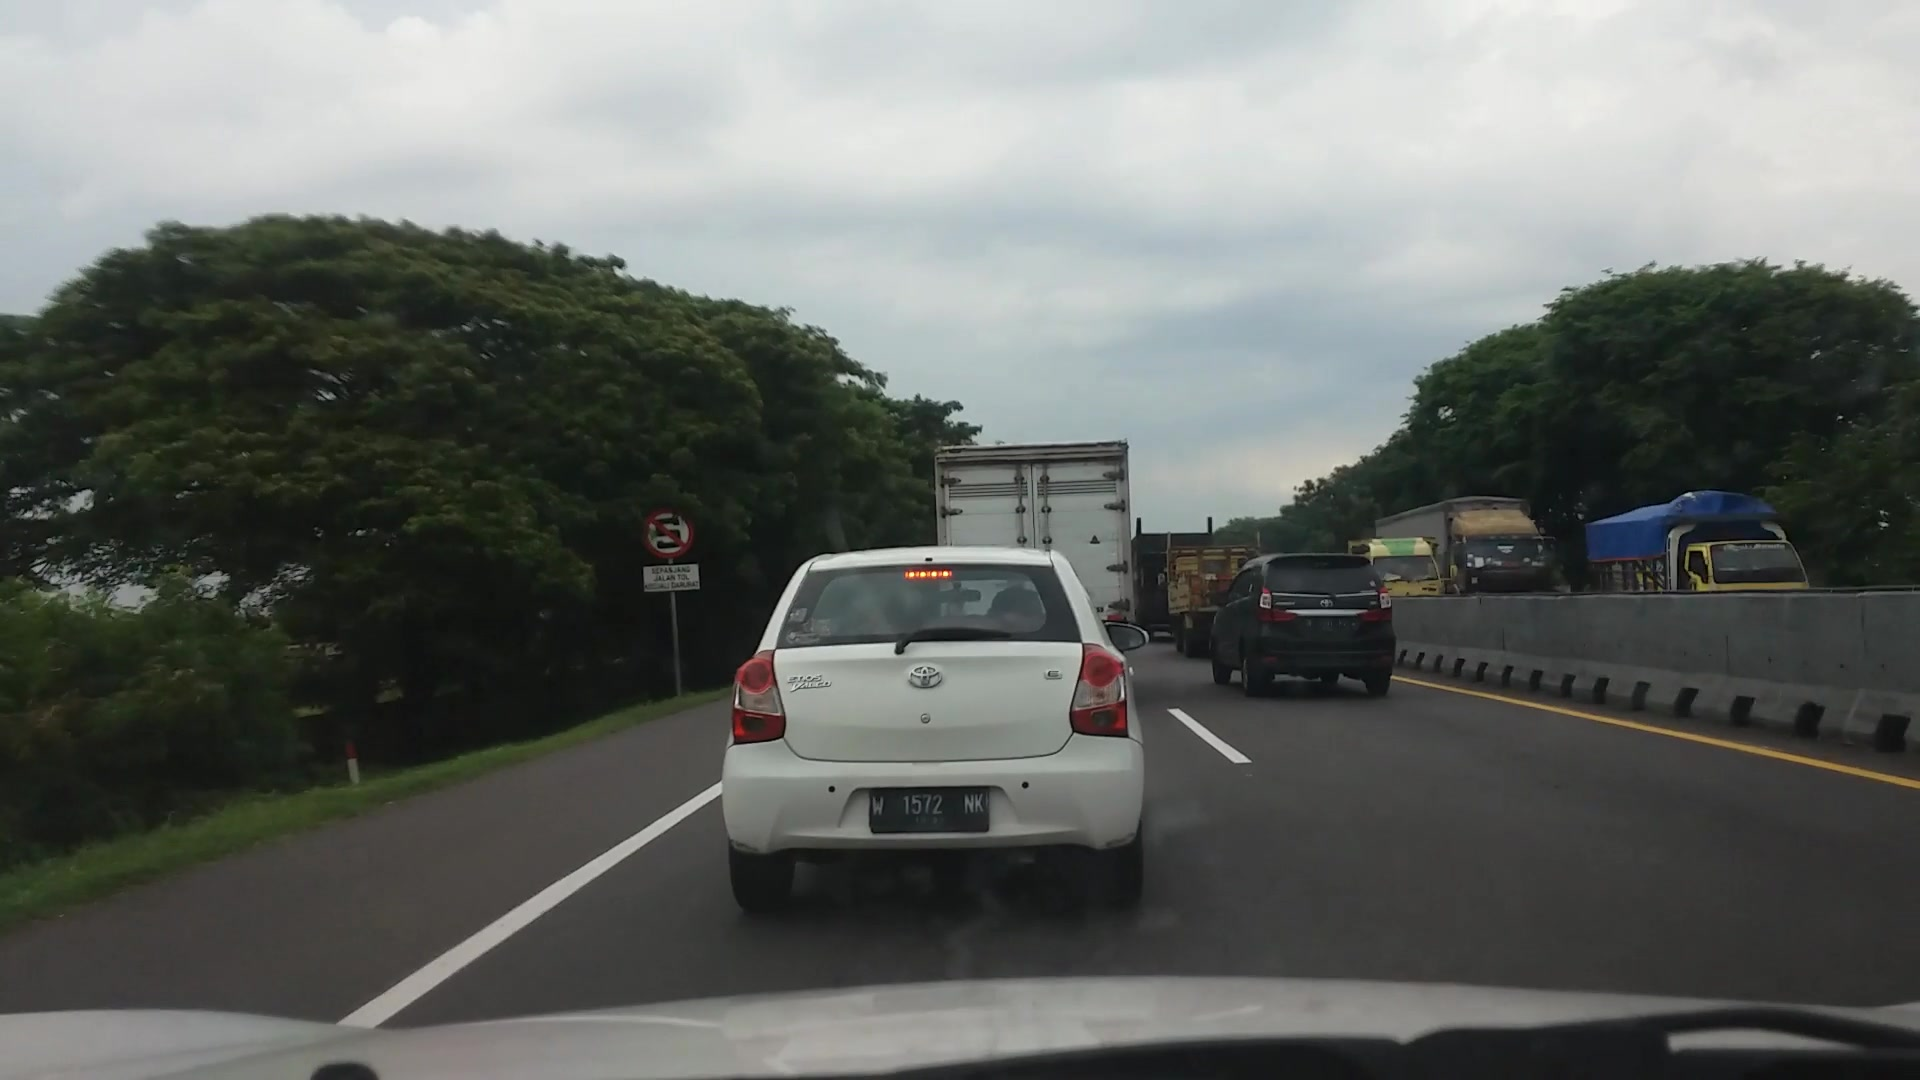plate_positive: (869, 786, 990, 833)
